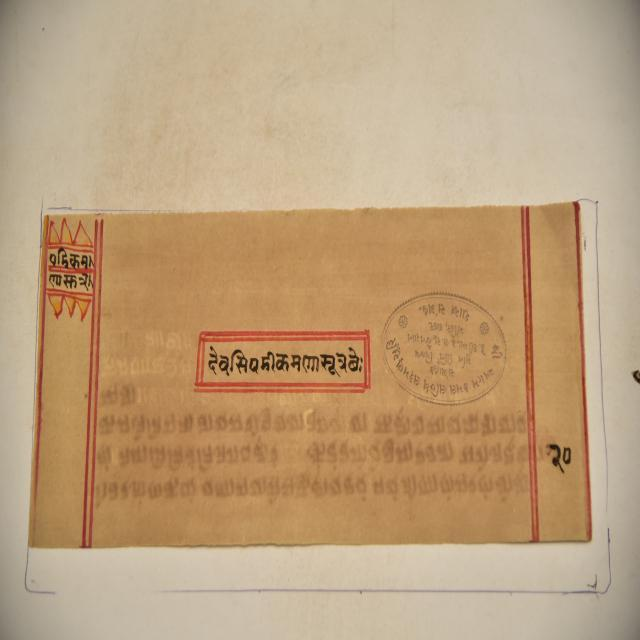text_paragraph: (27, 201, 588, 545)
